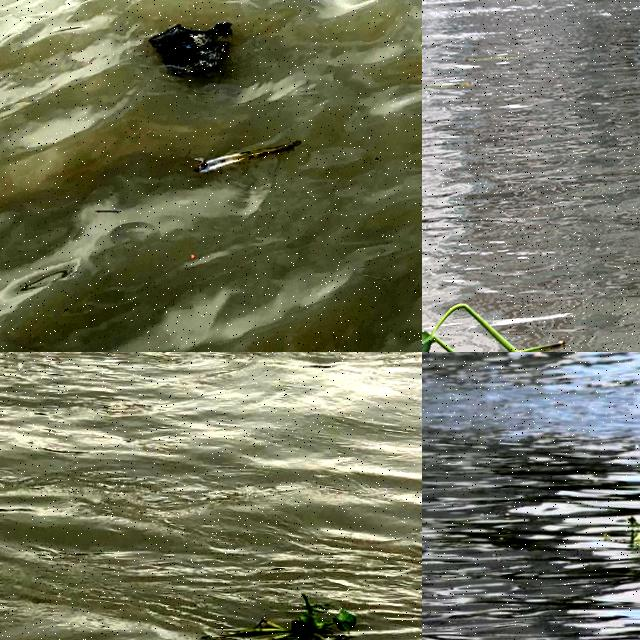water-hyacinth: (214, 583, 364, 640), (423, 494, 519, 546), (599, 507, 640, 553)
